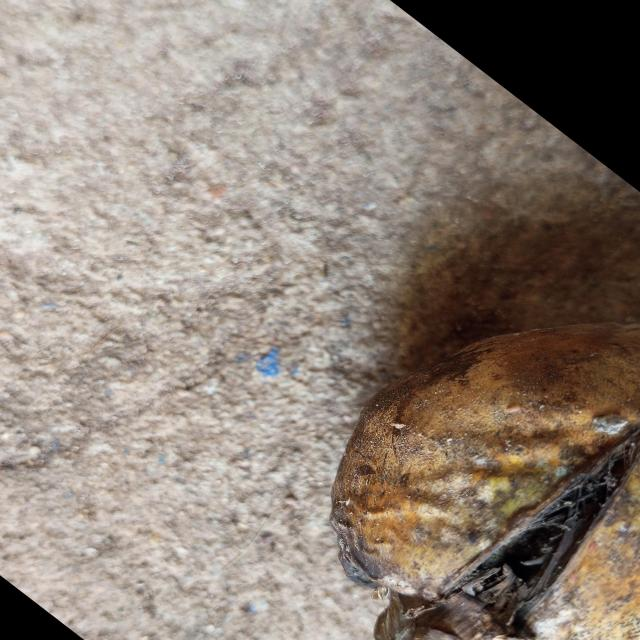damaged: (331, 324, 640, 640)
